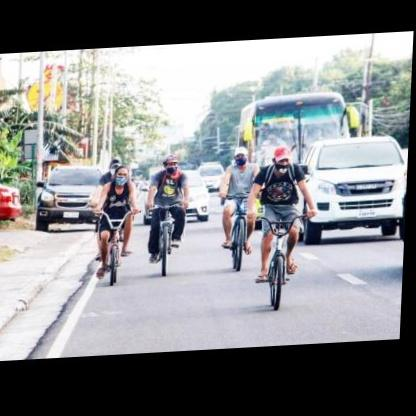Bicycle: (255, 203, 305, 320), (88, 202, 143, 292), (145, 196, 196, 283), (214, 187, 259, 277)
